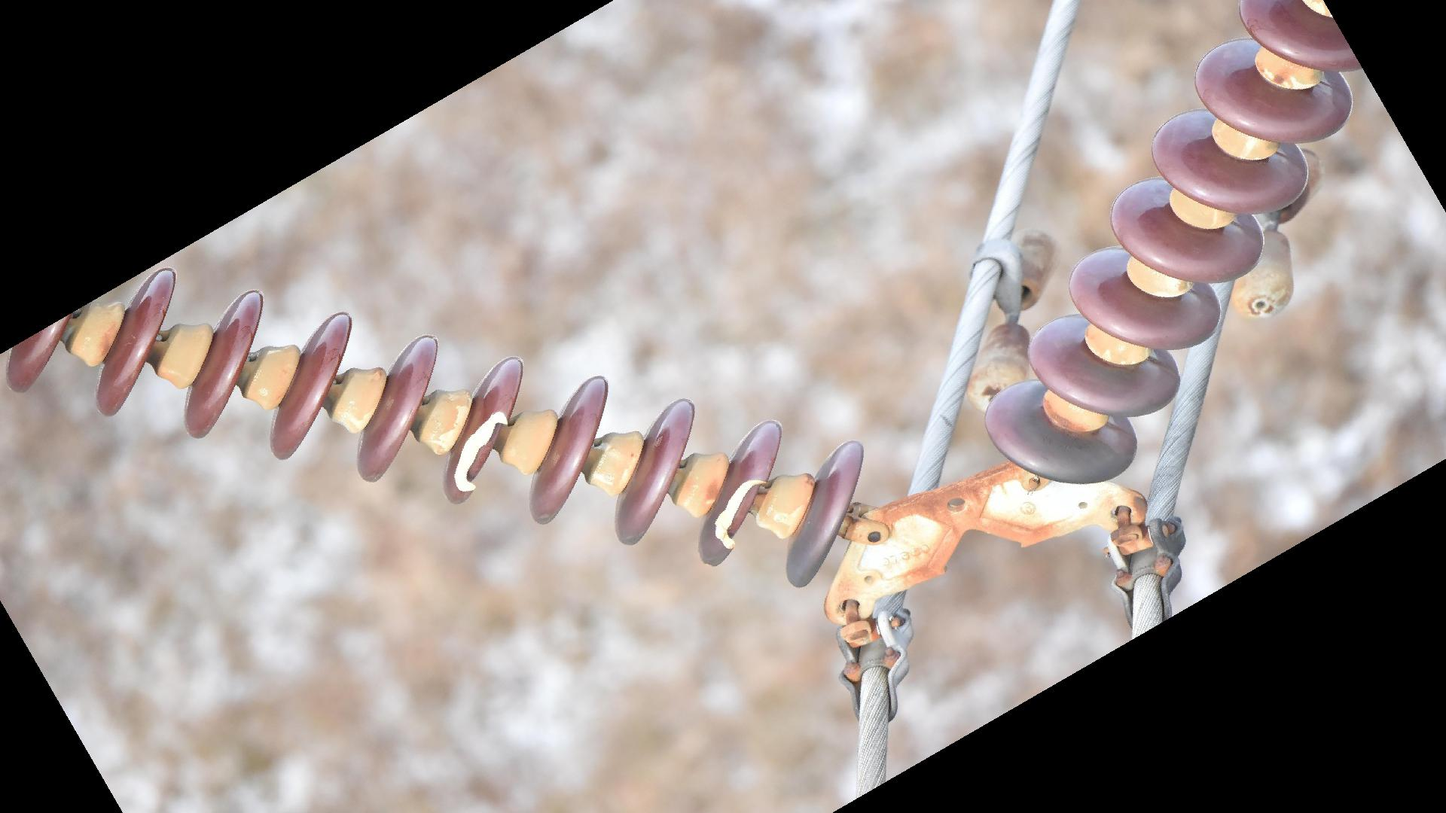insulator: (1, 262, 869, 591), (977, 1, 1362, 491)
insulator_breakage: (446, 406, 515, 499), (709, 471, 774, 556)
